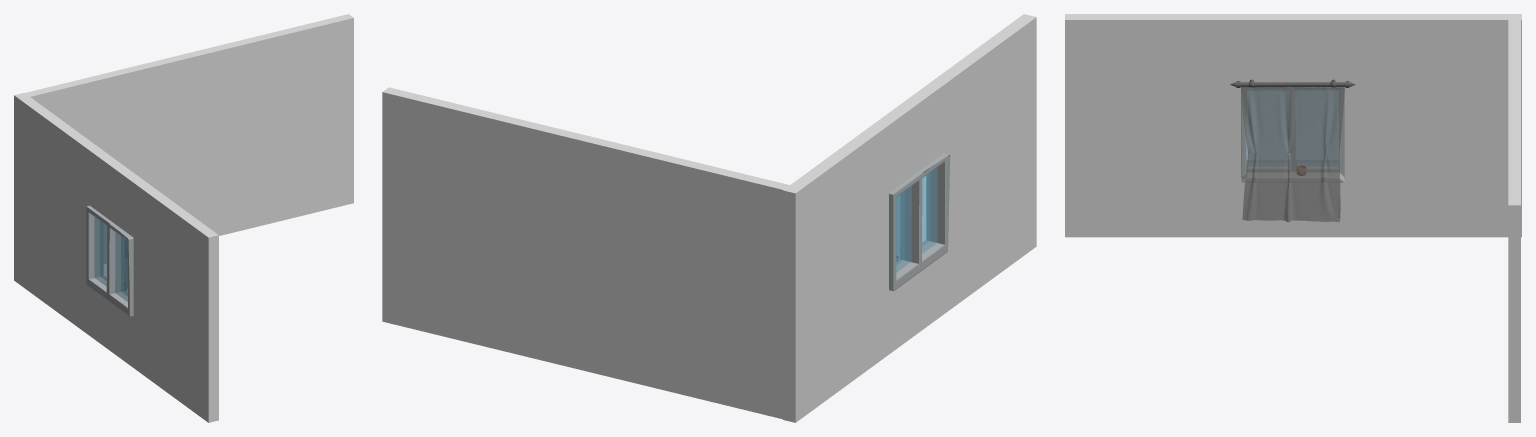
Rendered from walls_tier8.fbx.
3 views of the same model, side by side, from view 1: azimuth 30°, elevation 25°; view 2: azimuth 150°, elevation 25°; view 3: azimuth 270°, elevation 25° (orthographic). The views are drawn at different scales.
Parts seen in each view (by area): view 1: Cube.007, Cube, Cube.002, Cube.003; view 2: Cube.007, Cube, Cube.002, Cube.003; view 3: Cube, light-curtain.002, Cube.003, Cube.007, Cube.002, Cylinder.
Boxes of the visible parts, <box> form: Cube.007: <box>24,14,353,263</box>; Cube: <box>14,93,218,422</box>; Cube.002: <box>86,205,133,316</box>; Cube.003: <box>94,217,127,301</box>; Cube.007: <box>382,87,790,419</box>; Cube: <box>783,14,1036,422</box>; Cube.002: <box>889,153,950,291</box>; Cube.003: <box>896,167,937,272</box>; Cube: <box>1065,14,1521,237</box>; light-curtain.002: <box>1241,87,1344,222</box>; Cube.003: <box>1246,91,1338,164</box>; Cube.007: <box>1508,19,1520,422</box>; Cube.002: <box>1241,87,1344,182</box>; Cylinder: <box>1230,81,1355,87</box>.
Bounding box in the file's own units: 663 × 346 × 658.
